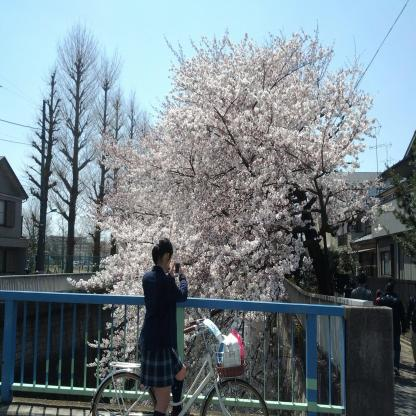Someiyoshino: (101, 38, 381, 302)
